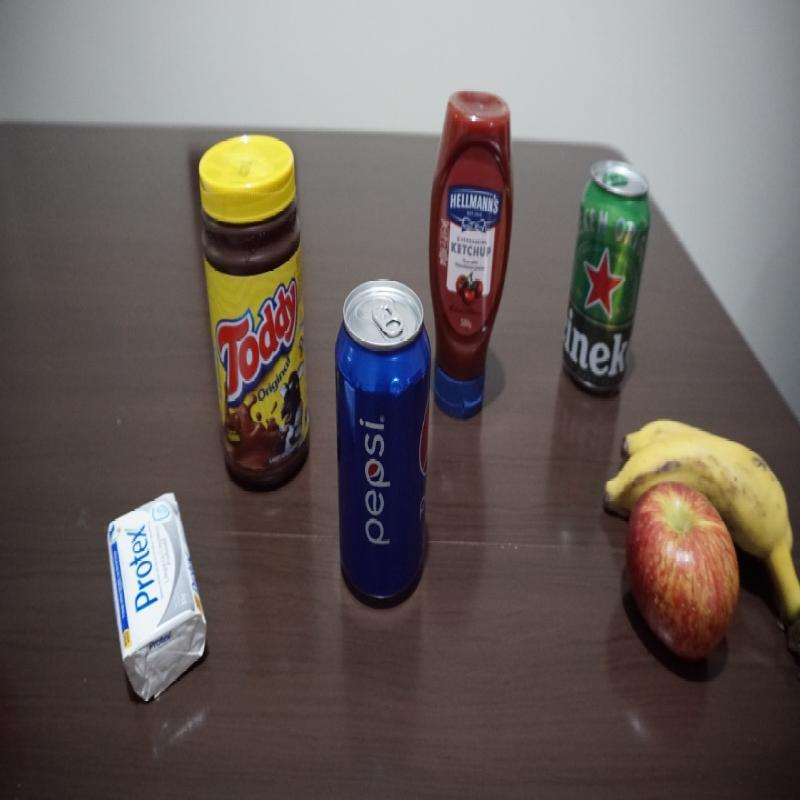Apple: (624, 495, 744, 662)
Banana: (603, 417, 786, 496)
Beer can: (560, 157, 653, 407)
Chocolate Powder: (200, 129, 312, 490)
Ketchup: (431, 85, 516, 419)
Soap: (105, 493, 209, 702)
Soda can: (329, 277, 431, 615)
